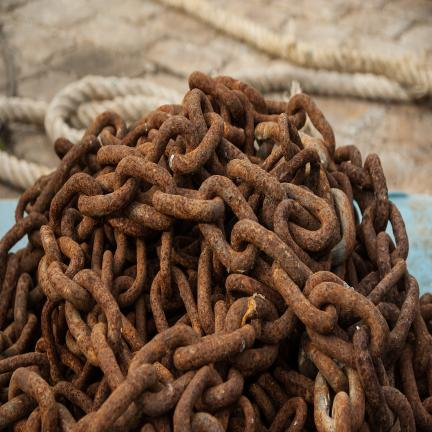karat: (0, 65, 430, 432)
